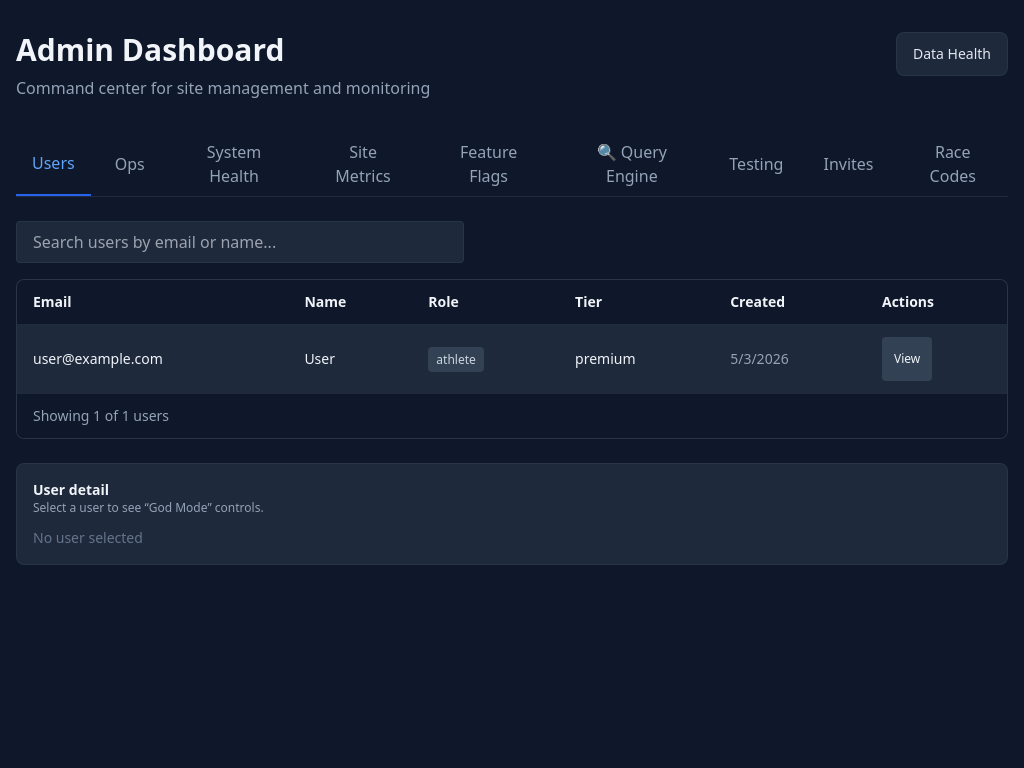
Test: Admin mutation error rendering › shows inline error when comp mutation isError
Click the button "View". click: (907, 359)
box: [882,337,932,381]
(page scrolled)
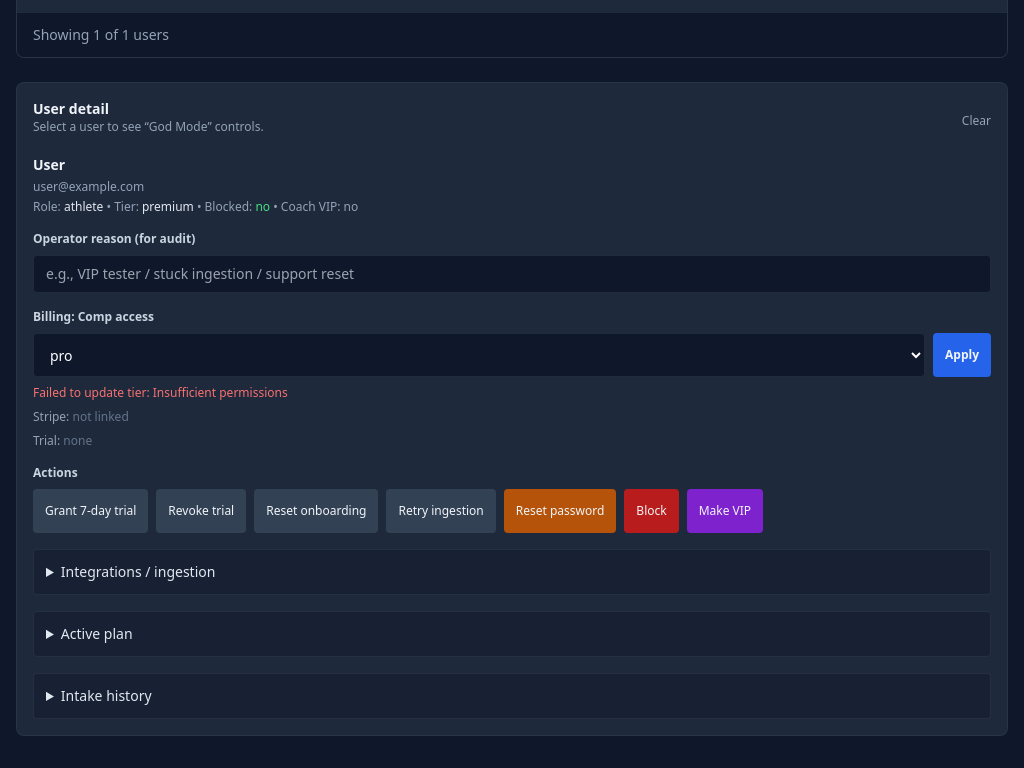
expect the text "Failed to update tier: Insufficient permissions" is shown: met, box [33,384,288,401]
